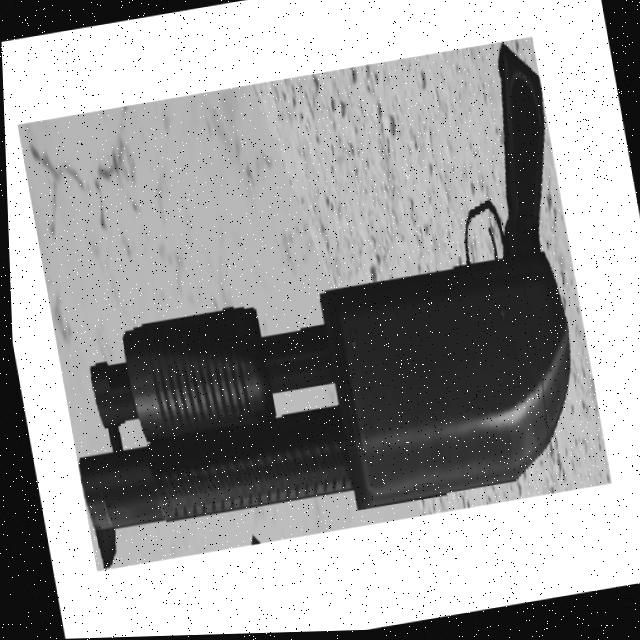firearm: (13, 35, 613, 580)
